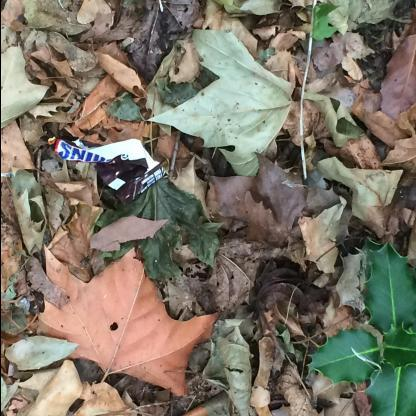plastik: (46, 135, 168, 212)
